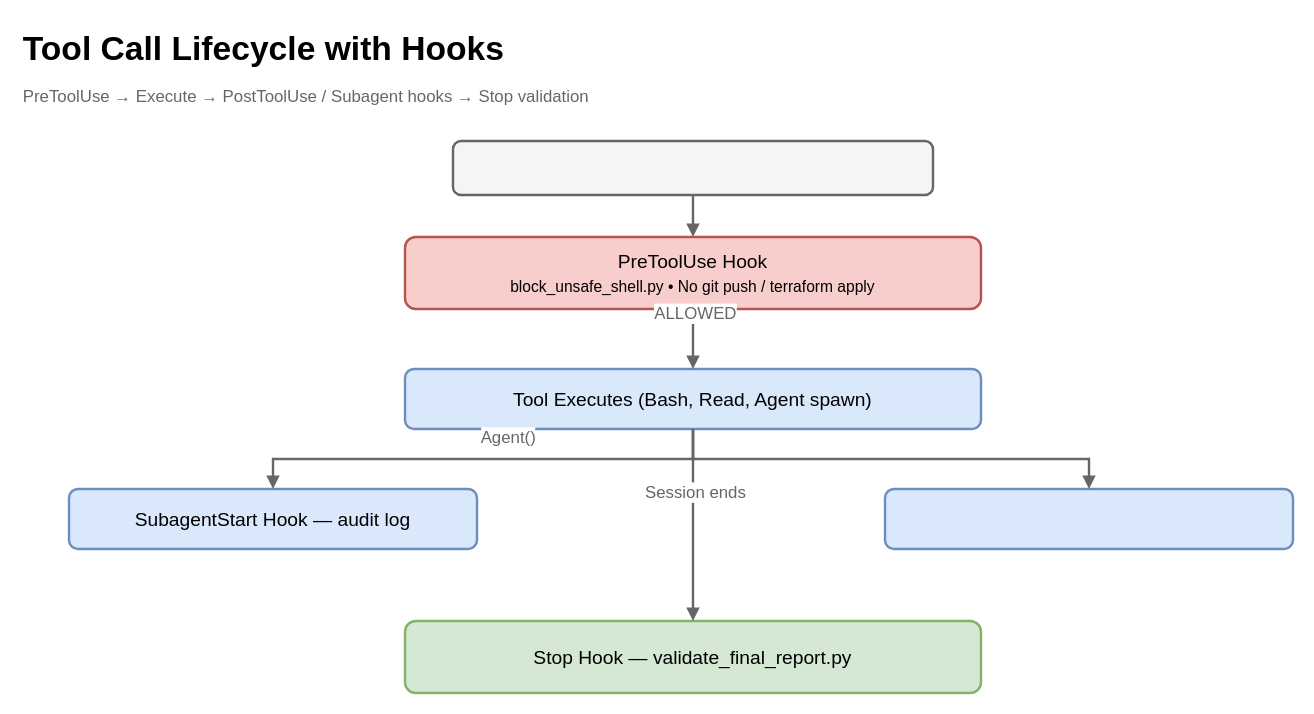
This 1314x714 diagram has some shape labels left out. The shapes that lost their labels are listed below. From the top down, each one's centre as x and y in pixels, then its label:
the point at 692,167: User or Agent requests tool call
the point at 1088,518: SubagentStop Hook — completion log
